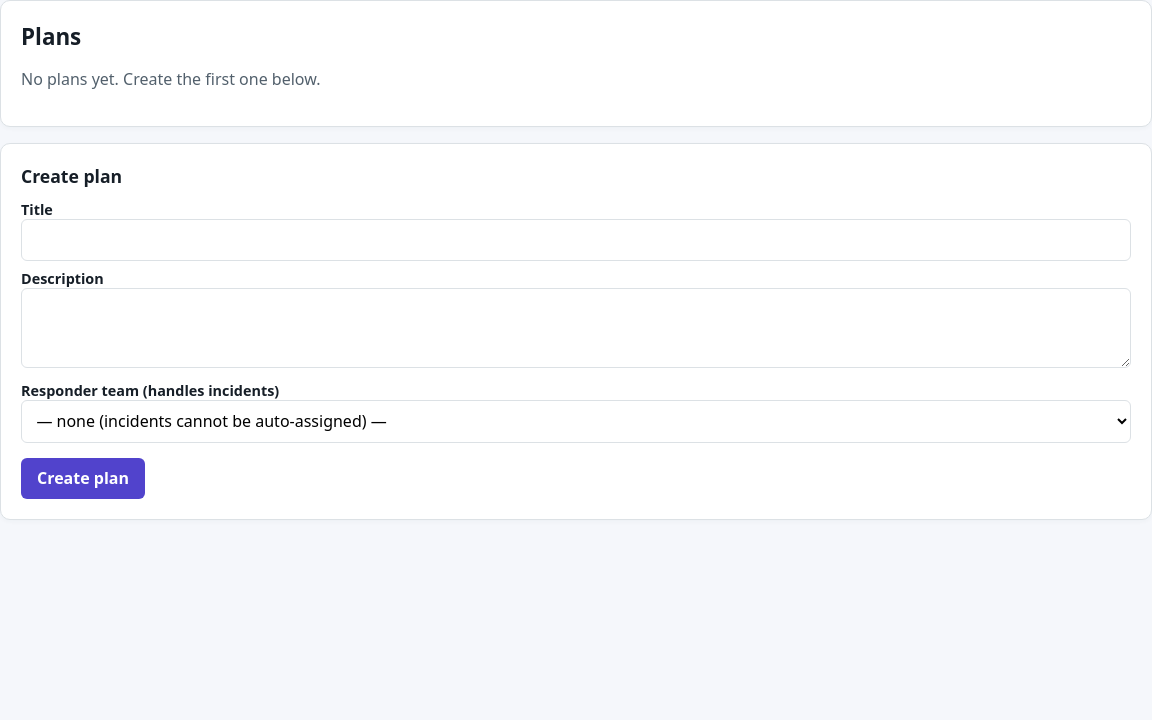
PlansPage › blocks submitting a plan without a title and sends nothing
Click the button "Create plan" at coordinates (83, 478), box 21,458 -> 145,499
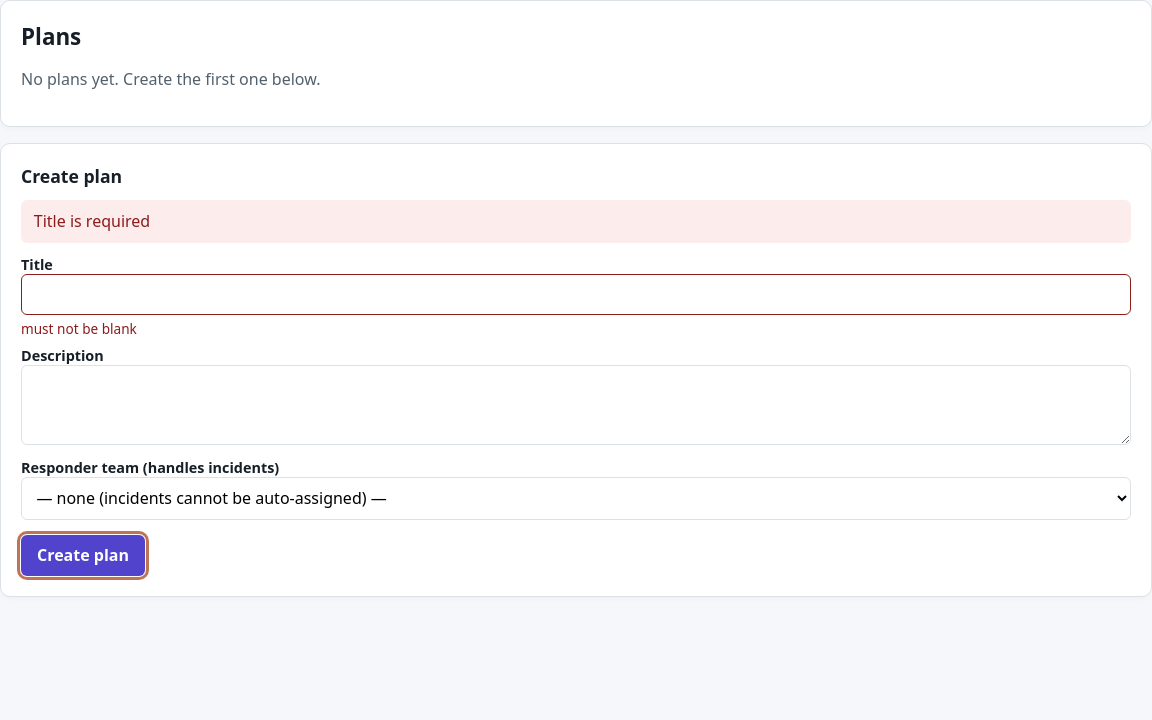
Now the text "Title is required" is shown, box 21,200 -> 1131,243
